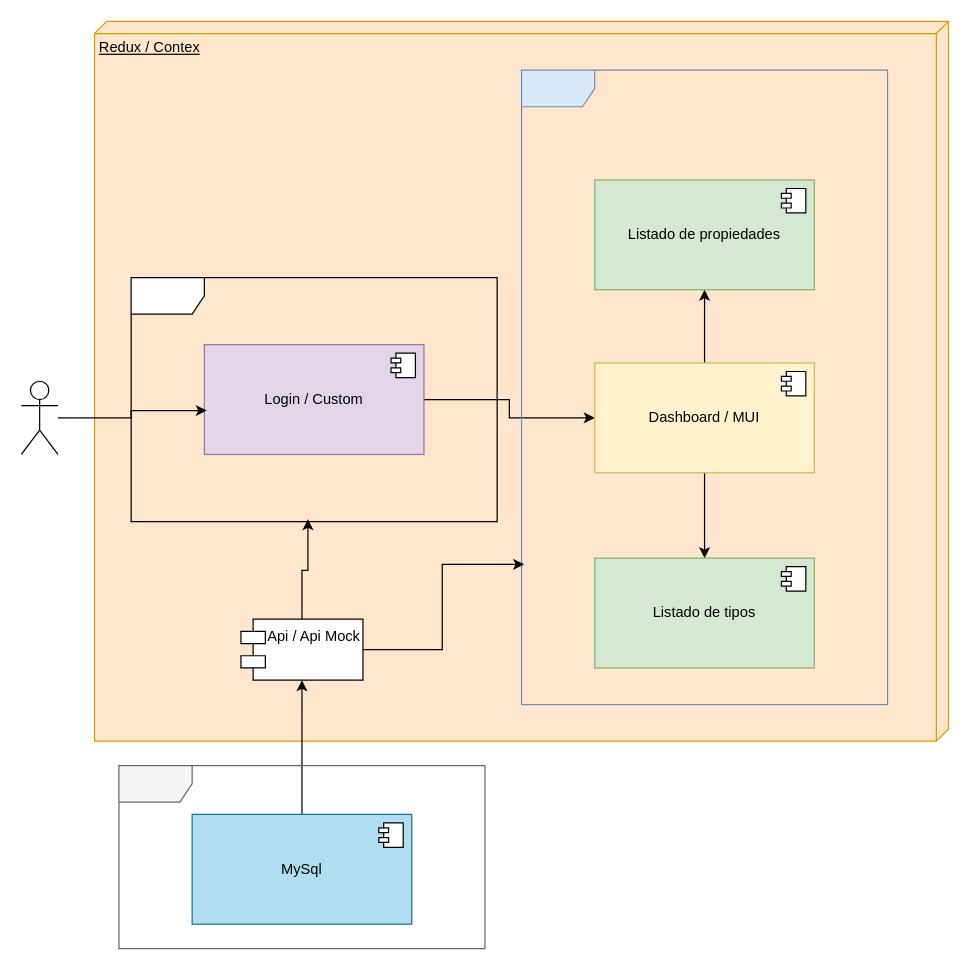
The diagram is 970 pixels wide and 970 high, and some of its shapes have lost their labels. Here are the shapes that lost their labels. From the top down, the centre of each, then its label:
At point 313,399: "frame".
At point 704,387: "Layout".
At point 39,417: "Actor".
At point 301,856: "AWS".
